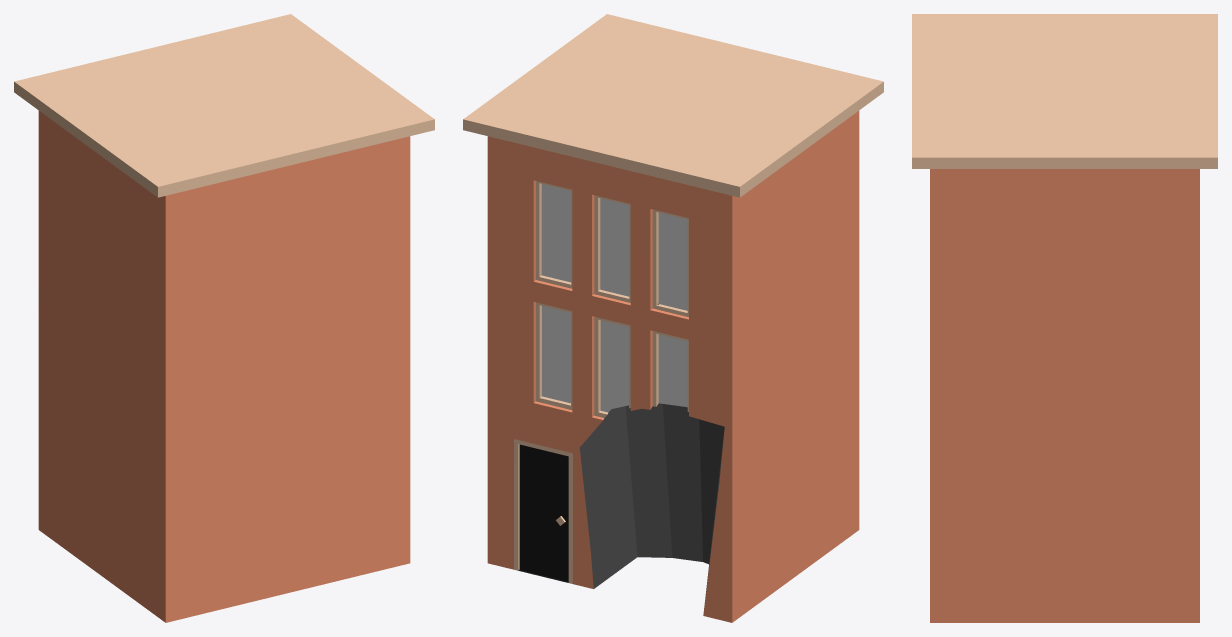
File: model-destruction-scenario-static-level0-destroyed-building-0.fbx
3 views of the same model, side by side, from view 1: azimuth 30°, elevation 25°; view 2: azimuth 150°, elevation 25°; view 3: azimuth 270°, elevation 25° (orthographic). The views are drawn at different scales.
Visible parts, largest first — view 1: destroyed building; view 2: destroyed building; view 3: destroyed building.
Boxes of the visible parts, bbox=[...] form: destroyed building: bbox=[14, 14, 434, 622]; destroyed building: bbox=[463, 14, 883, 622]; destroyed building: bbox=[912, 14, 1217, 622].
Bounding box in the file's own units: 12.85 × 14.28 × 21.98.
Materials: 3 (2 with a texture image).
